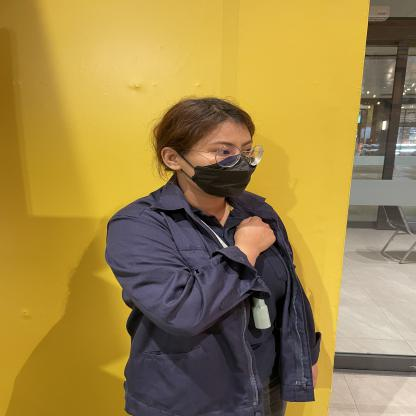Sadness: (186, 209, 300, 286)
